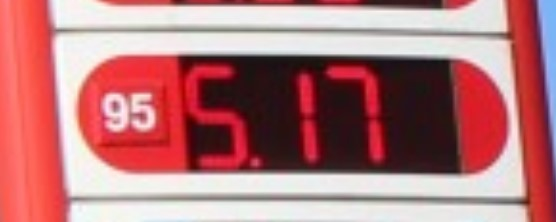digits: (173, 53, 258, 172), (319, 47, 392, 178), (275, 50, 322, 175)
